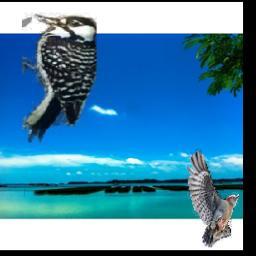Woodpecker: (23, 13, 98, 143), (187, 148, 240, 247)
